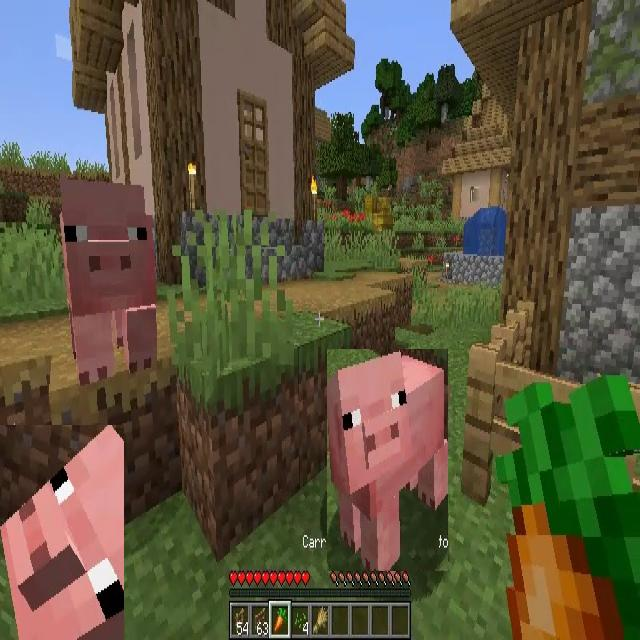pig: (327, 349, 448, 571), (0, 425, 124, 640), (63, 182, 157, 374)
